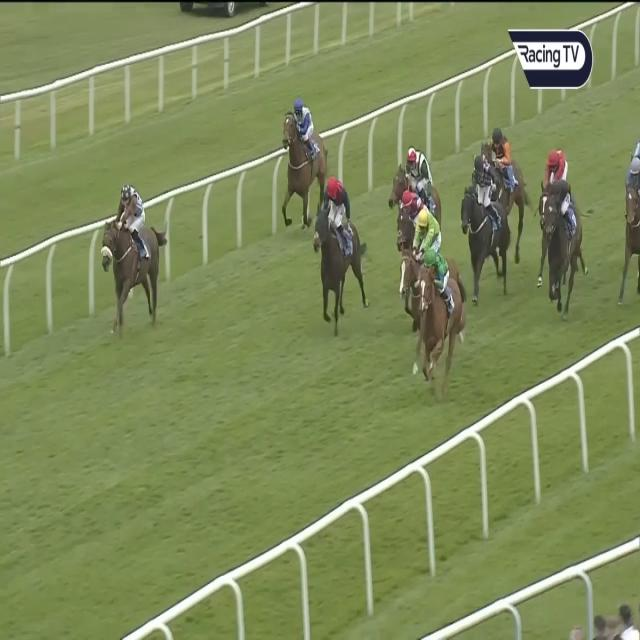horses-racing: (105, 174, 163, 326), (311, 177, 364, 320), (458, 151, 514, 283), (415, 252, 465, 376), (542, 178, 585, 308), (400, 206, 445, 292), (486, 127, 531, 211), (284, 98, 322, 188), (391, 144, 446, 203), (621, 147, 640, 296), (395, 185, 428, 247), (540, 149, 571, 204)
